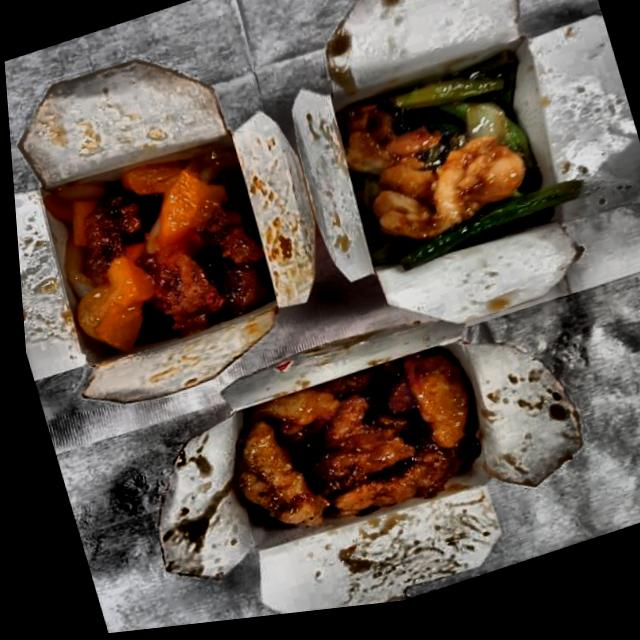Food: (320, 42, 571, 284), (29, 132, 277, 374), (211, 345, 488, 561)
